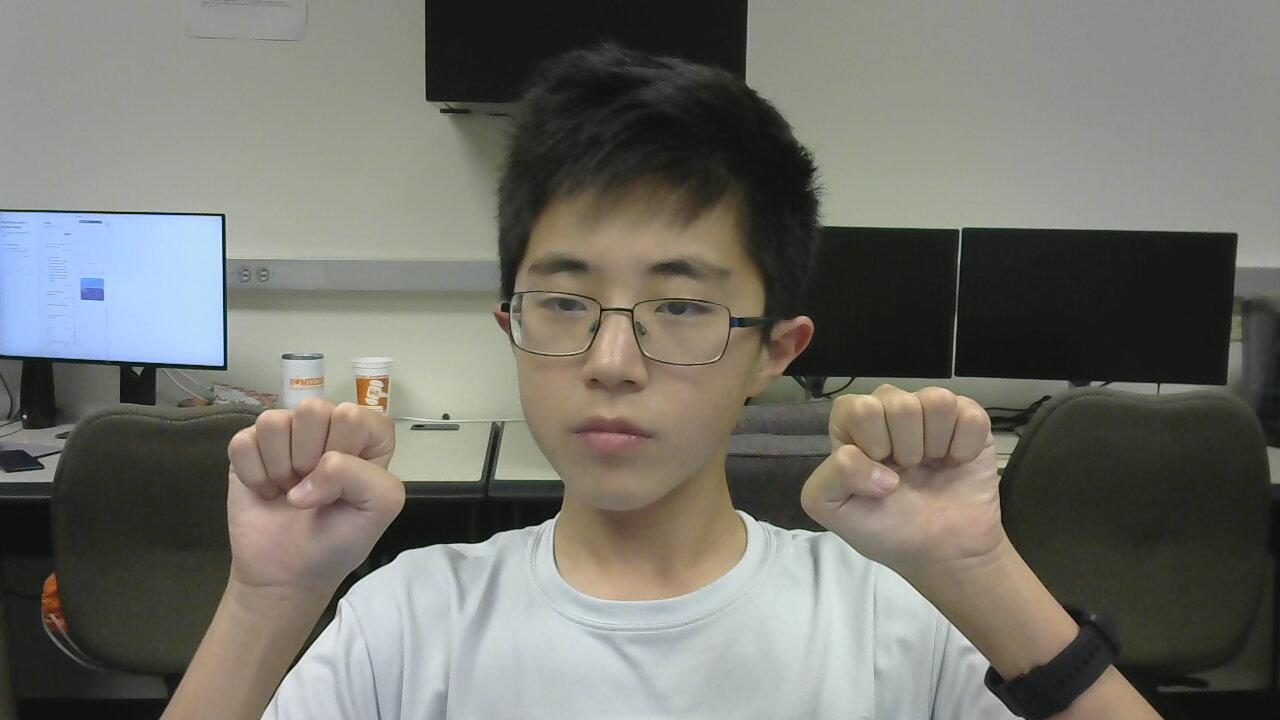fist: (196, 377, 431, 588), (796, 379, 1015, 578)
